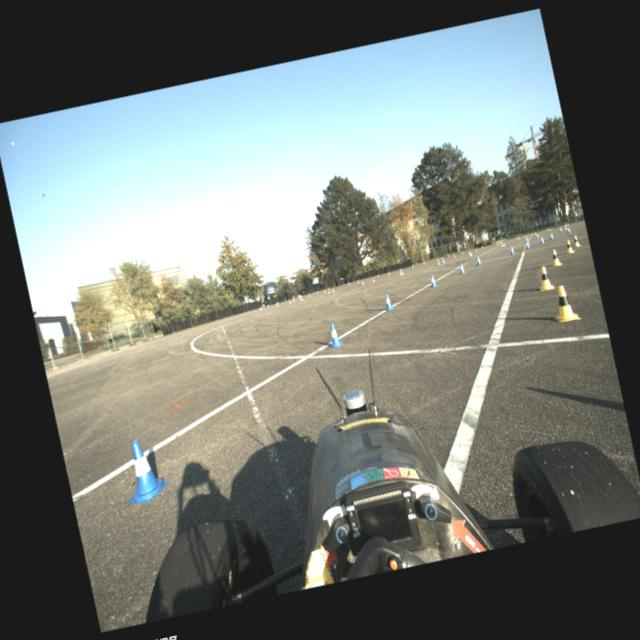blue_cone: (116, 436, 171, 506), (326, 322, 342, 348), (382, 292, 393, 310), (458, 262, 466, 274), (429, 274, 436, 286), (474, 255, 482, 265), (508, 245, 514, 254), (548, 232, 554, 240), (524, 240, 530, 248), (539, 235, 544, 243), (566, 226, 571, 233), (274, 302, 278, 308), (298, 296, 302, 302), (360, 280, 364, 286), (398, 270, 402, 276), (502, 242, 506, 248), (535, 232, 539, 238), (558, 226, 562, 232), (259, 306, 262, 311), (260, 305, 263, 310), (288, 298, 291, 303), (442, 259, 445, 264), (331, 288, 334, 292), (468, 252, 471, 256), (268, 303, 270, 308), (499, 241, 502, 244), (276, 301, 278, 305), (316, 290, 318, 294), (348, 281, 350, 285), (376, 273, 378, 277), (422, 261, 424, 265), (461, 250, 463, 254), (481, 245, 483, 249), (442, 256, 444, 260), (399, 267, 401, 270), (516, 237, 518, 240), (531, 232, 533, 235), (546, 228, 548, 231), (567, 222, 569, 225)
yellow_cone: (548, 282, 580, 324), (535, 265, 554, 291), (549, 248, 562, 266), (564, 238, 575, 252), (572, 234, 580, 247), (499, 241, 504, 247), (524, 235, 528, 240), (300, 294, 303, 300), (564, 224, 567, 230), (327, 288, 330, 293), (437, 260, 440, 265), (292, 296, 294, 302), (356, 278, 358, 284), (372, 276, 374, 282), (387, 270, 390, 274), (401, 270, 404, 274), (517, 236, 520, 240), (548, 227, 551, 231), (436, 257, 439, 261), (308, 292, 310, 297), (324, 288, 326, 293), (470, 250, 472, 255), (412, 264, 414, 268), (453, 253, 455, 257), (475, 247, 477, 251), (496, 241, 498, 245), (534, 231, 536, 235), (565, 222, 567, 226)
